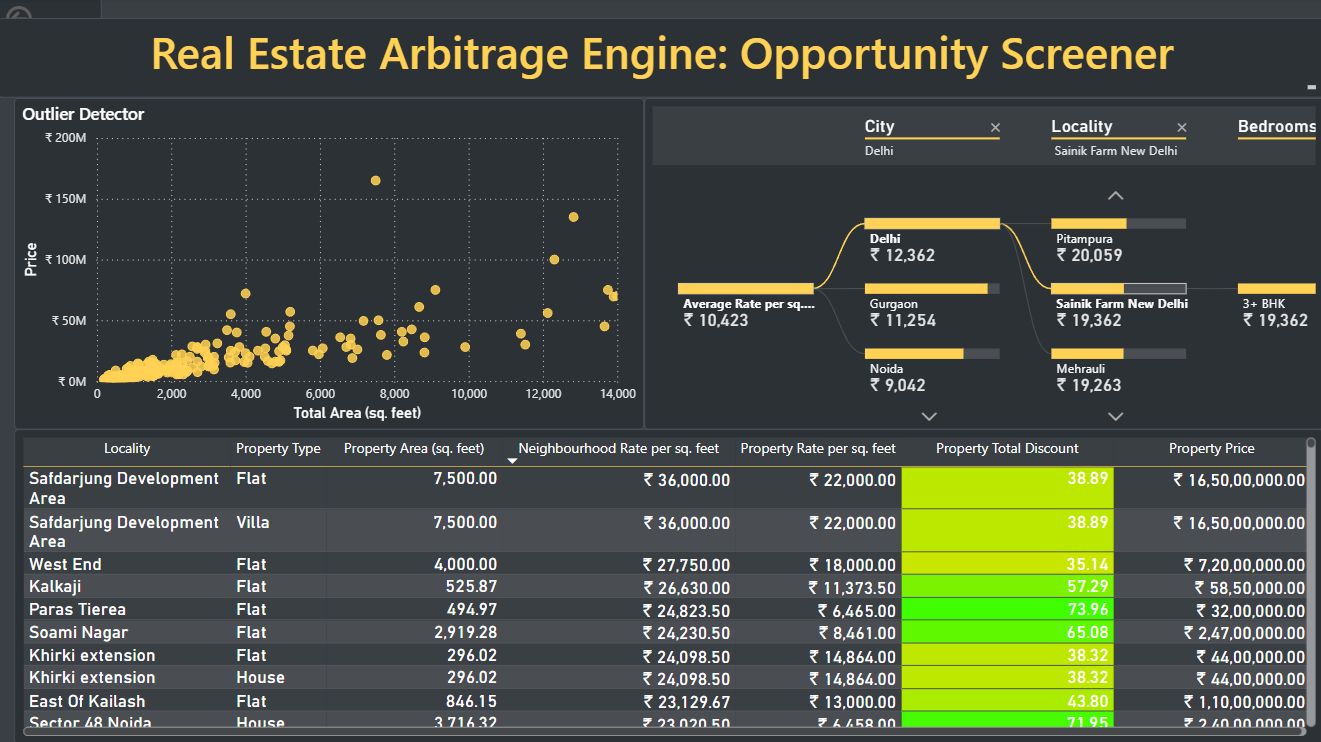

This screenshot's page, from the dashboard's own definition file:
{"tool":"powerbi","page":{"name":"Page 2","canvas":[1280,720],"ordinal":1},"visuals":[{"type":"actionButton","box":[0,0,100,40],"z":0},{"type":"scatterChart","title":"Outlier Detector","fields":{"X":["residential view_arbitrage_opportunities.Total_Area_SqFt"],"Y":["residential view_arbitrage_opportunities.Price"]},"box":[16,96,608,320],"z":1000},{"type":"decompositionTreeVisual","fields":{"ExplainBy":["residential dim_location.City","residential dim_location.Locality","residential dim_property_details.Bedrooms (groups) 2"],"Analyze":["Avg(residential view_arbitrage_opportunities.Avg_Neighborhood_Rate)"]},"box":[624,96,656,320],"z":2000},{"type":"textbox","title":"Real Estate Arbitrage Engine: Opportunity Screener","box":[0,19.6,1280.3,77],"z":3000},{"type":"tableEx","fields":{"Values":["residential dim_location.Locality","residential dim_property_details.Property_Type","Avg(residential view_arbitrage_opportunities.Total_Area_SqFt)","Avg(residential view_arbitrage_opportunities.Avg_Neighborhood_Rate)","Avg(residential view_arbitrage_opportunities.Rate_Per_SqFt)","Avg(residential view_arbitrage_opportunities.Discount_Percentage)","Avg(residential view_arbitrage_opportunities.Price)"]},"box":[16,416,1264,304],"z":4000}]}

Visuals, with their boxes in screenshot pixels (x1, y1, x2, y2), scaled from the page's 1280x720 canvas onto the 1321x742 screenshot:
actionButton: [0,0,103,41]
"Outlier Detector" scatterChart: [17,99,644,429]
decompositionTreeVisual - residential dim_location.City x residential dim_location.Locality: [644,99,1320,429]
"Real Estate Arbitrage Engine: Opportunity Screener" textbox: [0,20,1320,100]
tableEx - residential dim_location.Locality x residential dim_property_details.Property_Type: [17,429,1320,741]
